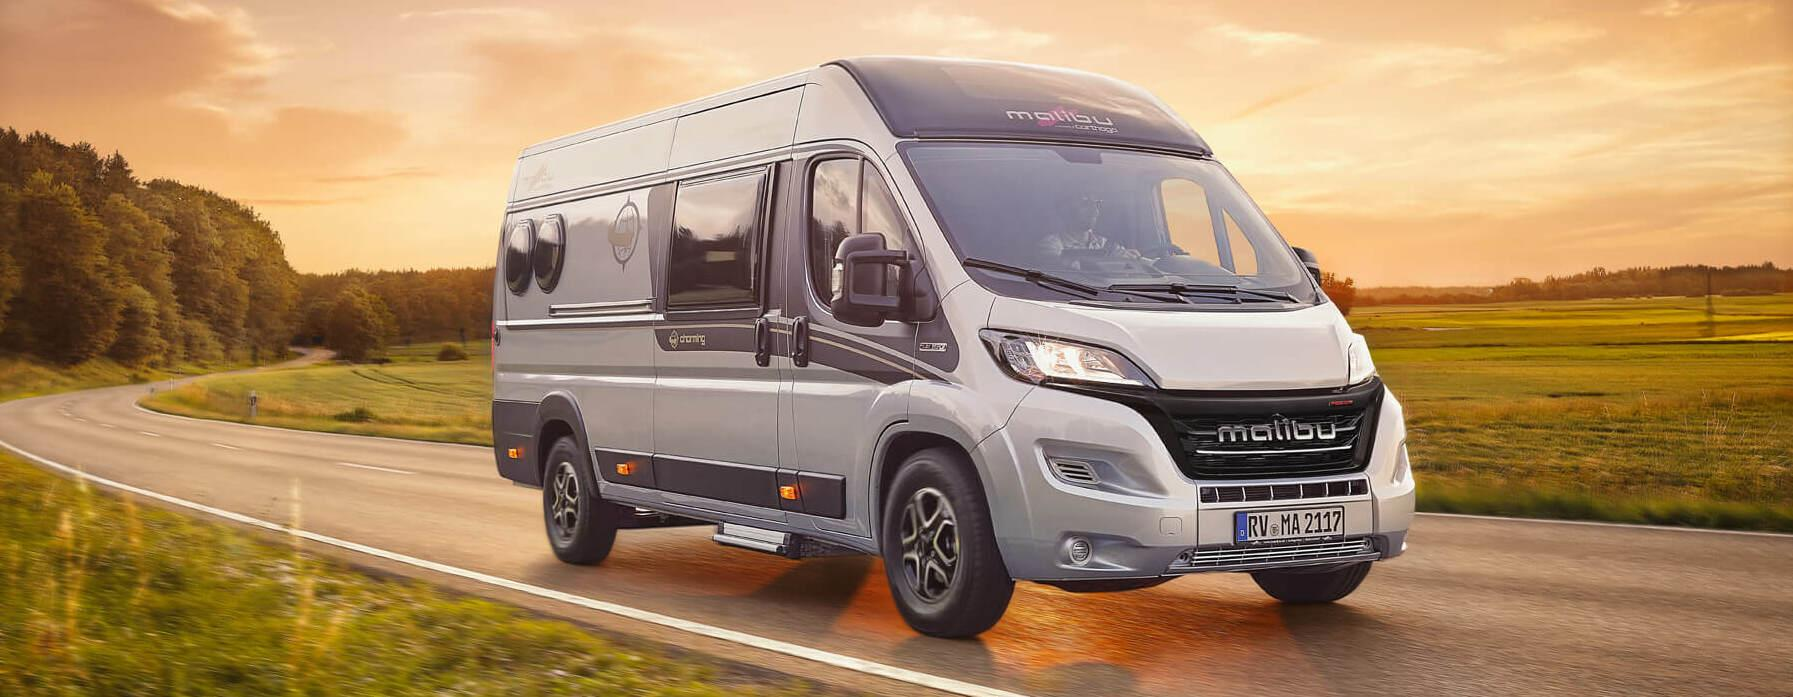van: (491, 56, 1415, 639)
